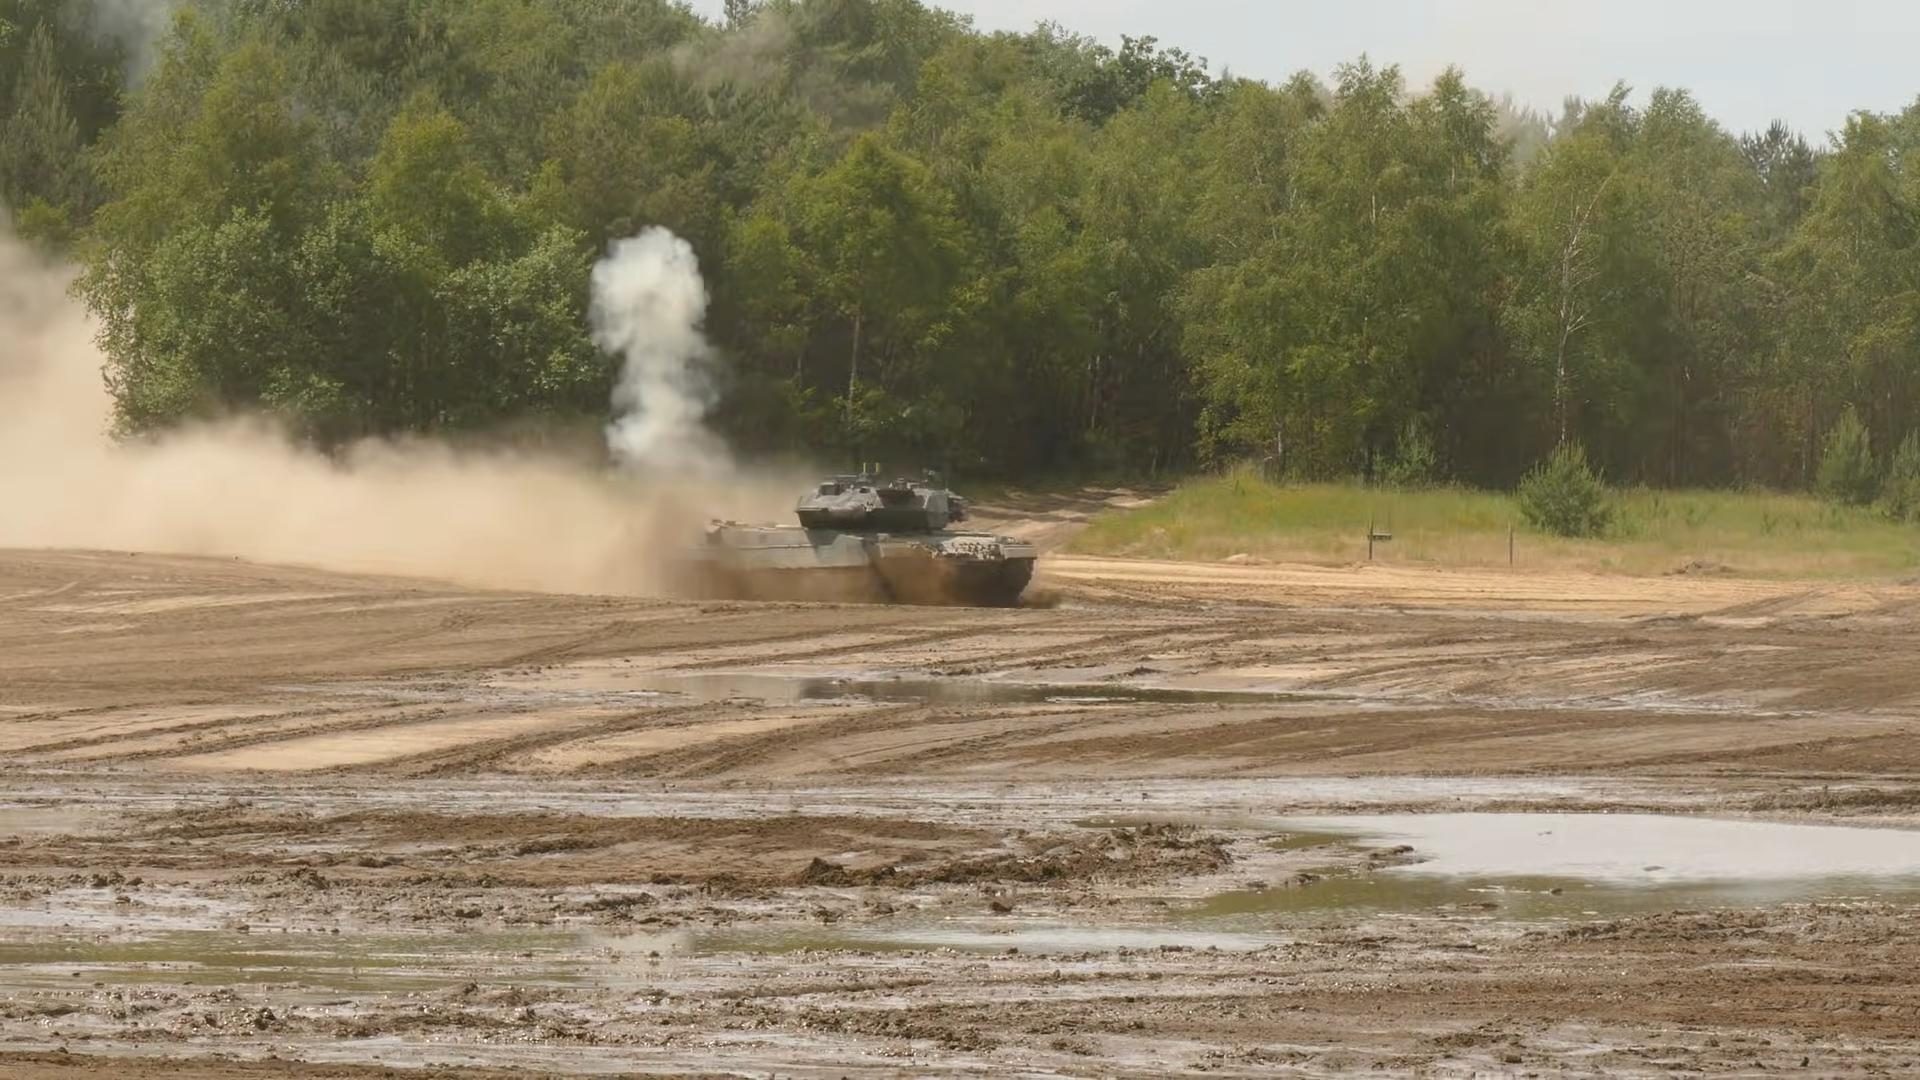tank: (658, 463, 1038, 607)
